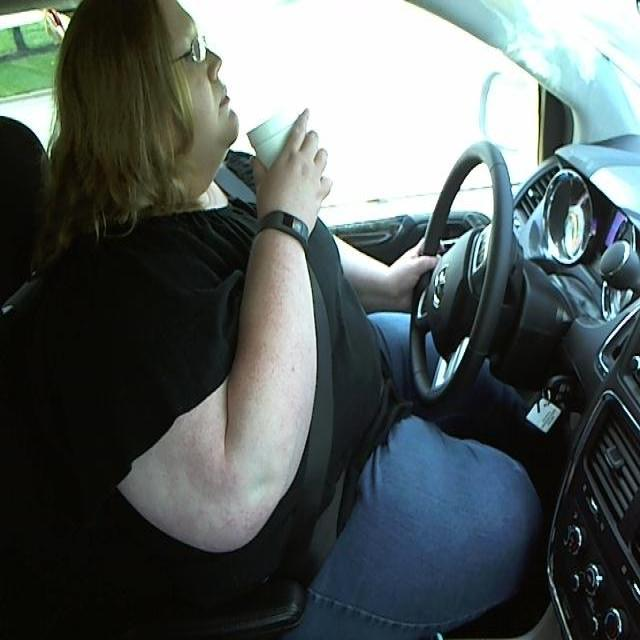Seatbelt: (244, 108, 330, 217)
